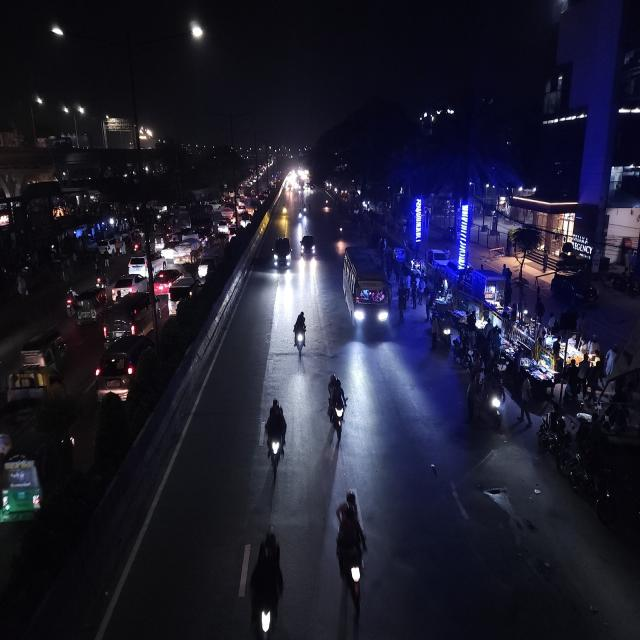bus: (340, 242, 391, 342)
car: (94, 330, 158, 403), (101, 291, 165, 341), (168, 276, 198, 312), (152, 267, 186, 296), (127, 252, 164, 276), (271, 234, 293, 274), (110, 275, 148, 298), (197, 255, 223, 284), (299, 232, 317, 262), (216, 216, 232, 235)
cng: (0, 430, 64, 529), (24, 332, 70, 367), (73, 288, 105, 325)
motorcycle: (331, 487, 371, 631), (245, 525, 288, 640), (261, 394, 291, 477), (324, 369, 348, 444), (483, 373, 509, 431), (290, 308, 310, 358), (62, 285, 78, 318), (92, 264, 109, 291), (297, 208, 305, 227), (281, 202, 289, 219)
pedestrian: (464, 379, 481, 424), (395, 280, 409, 325)
pickup_van: (4, 369, 68, 426), (172, 233, 202, 266)
